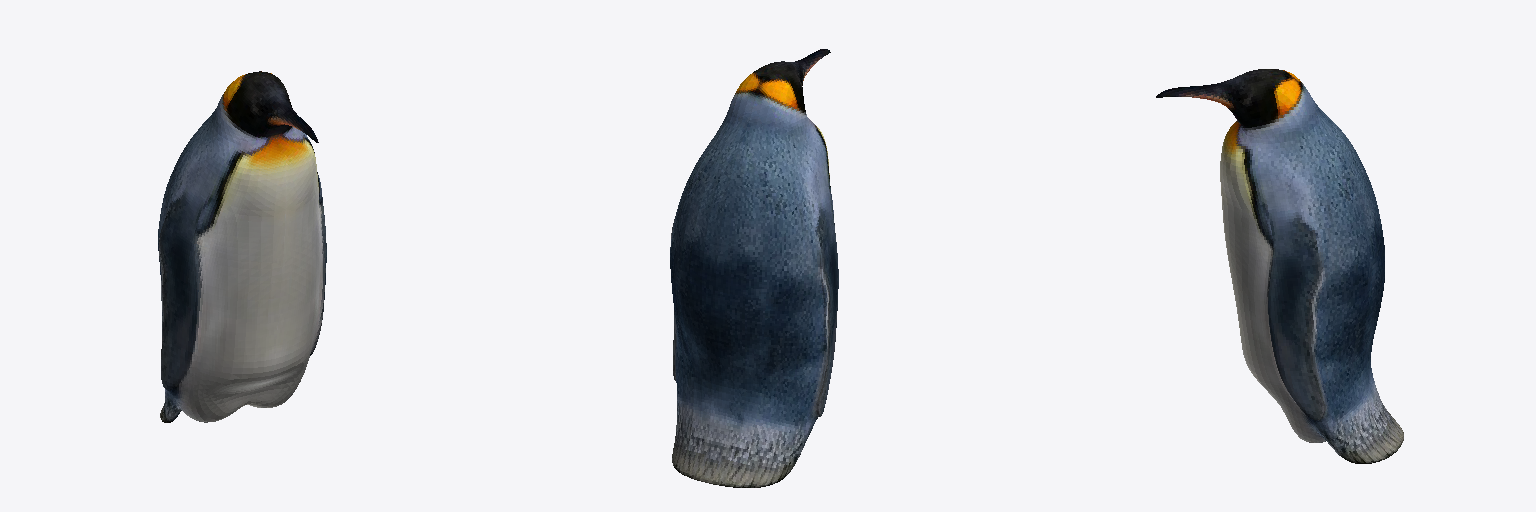
3 views of the same model, side by side, from view 1: azimuth 30°, elevation 25°; view 2: azimuth 150°, elevation 25°; view 3: azimuth 270°, elevation 25° (orthographic).
Visible parts, largest first — view 1: bodyP_pinguin; view 2: bodyP_pinguin; view 3: bodyP_pinguin.
Boxes of the visible parts, <box> form: bodyP_pinguin: <box>158,71,326,422</box>; bodyP_pinguin: <box>670,49,838,487</box>; bodyP_pinguin: <box>1156,69,1403,463</box>.
Size of the model in its own units: 1.6 by 3.66 by 2.24.
1 materials, 1 textured.